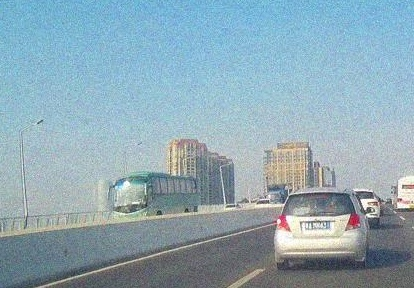L_light: (277, 215, 290, 231)
R_light: (346, 214, 361, 231)
T_light: (313, 192, 330, 196)
day-left: (276, 189, 365, 267)
